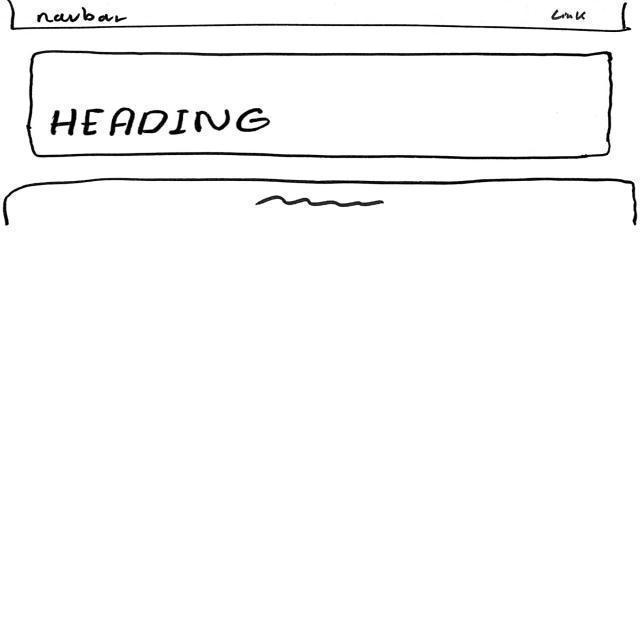container: (25, 46, 618, 165), (9, 1, 633, 32)
label: (45, 103, 278, 143), (28, 5, 137, 24), (544, 7, 600, 26)
text: (252, 192, 391, 215)
